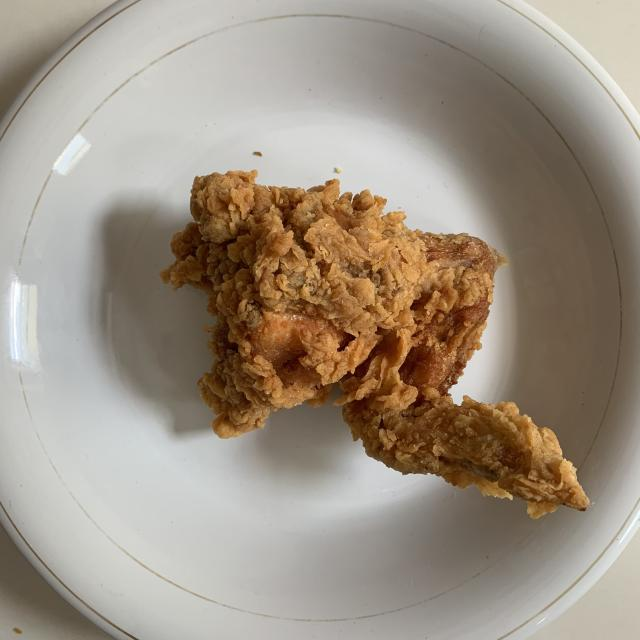Frango: (164, 163, 588, 510)
